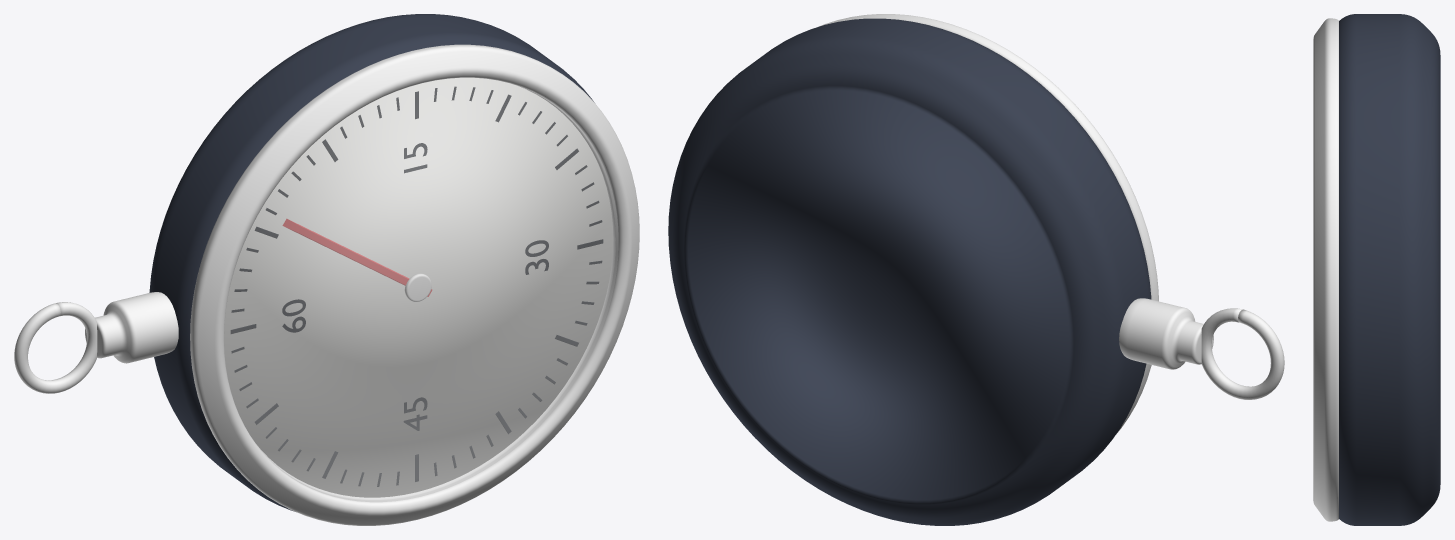
Rendered from tool-timer.glb.
The picture shows the model from 3 angles, left to right: view 1: azimuth 30°, elevation 25°; view 2: azimuth 150°, elevation 25°; view 3: azimuth 270°, elevation 25°; orthographic projection. The views are drawn at different scales.
Parts seen in each view (by area): view 1: Glass, Dial, Bezel, Case, Crown, DialTicks, Ring, Hand; view 2: Case, Crown, Bezel, Ring; view 3: Case, Bezel.
Boxes of the visible parts, x1,y1,x2,y2 form: Glass: [224, 78, 618, 501]; Dial: [224, 77, 613, 497]; Bezel: [190, 44, 639, 525]; Case: [149, 14, 594, 511]; Crown: [85, 292, 178, 363]; DialTicks: [230, 86, 603, 486]; Ring: [14, 302, 97, 393]; Hand: [282, 219, 431, 296]; Case: [668, 18, 1151, 525]; Crown: [1119, 298, 1213, 369]; Bezel: [818, 14, 1158, 434]; Ring: [1201, 308, 1284, 399]; Case: [1339, 14, 1440, 525]; Bezel: [1313, 18, 1338, 521].
Size of the model in its own units: 0.0742 by 0.056 by 0.0139.
